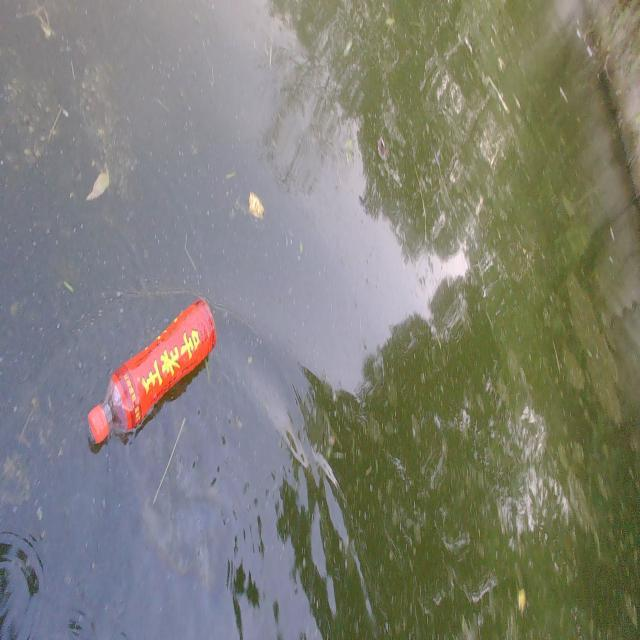garbage: (87, 296, 217, 446)
